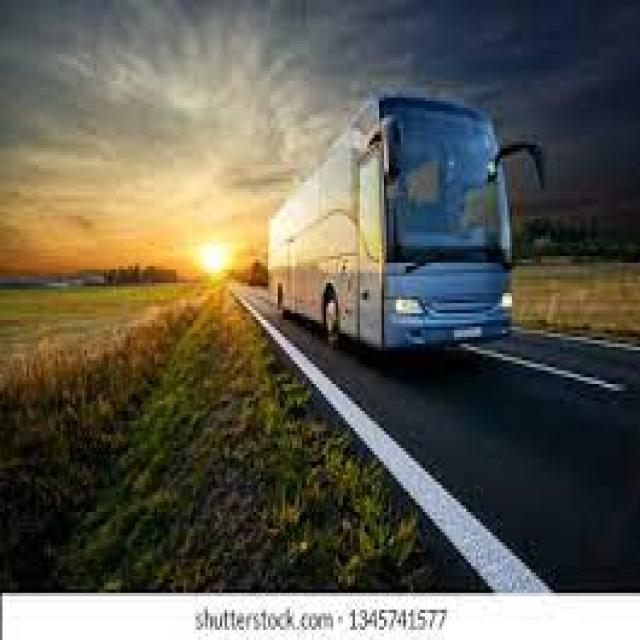BUS: (215, 88, 524, 350)
